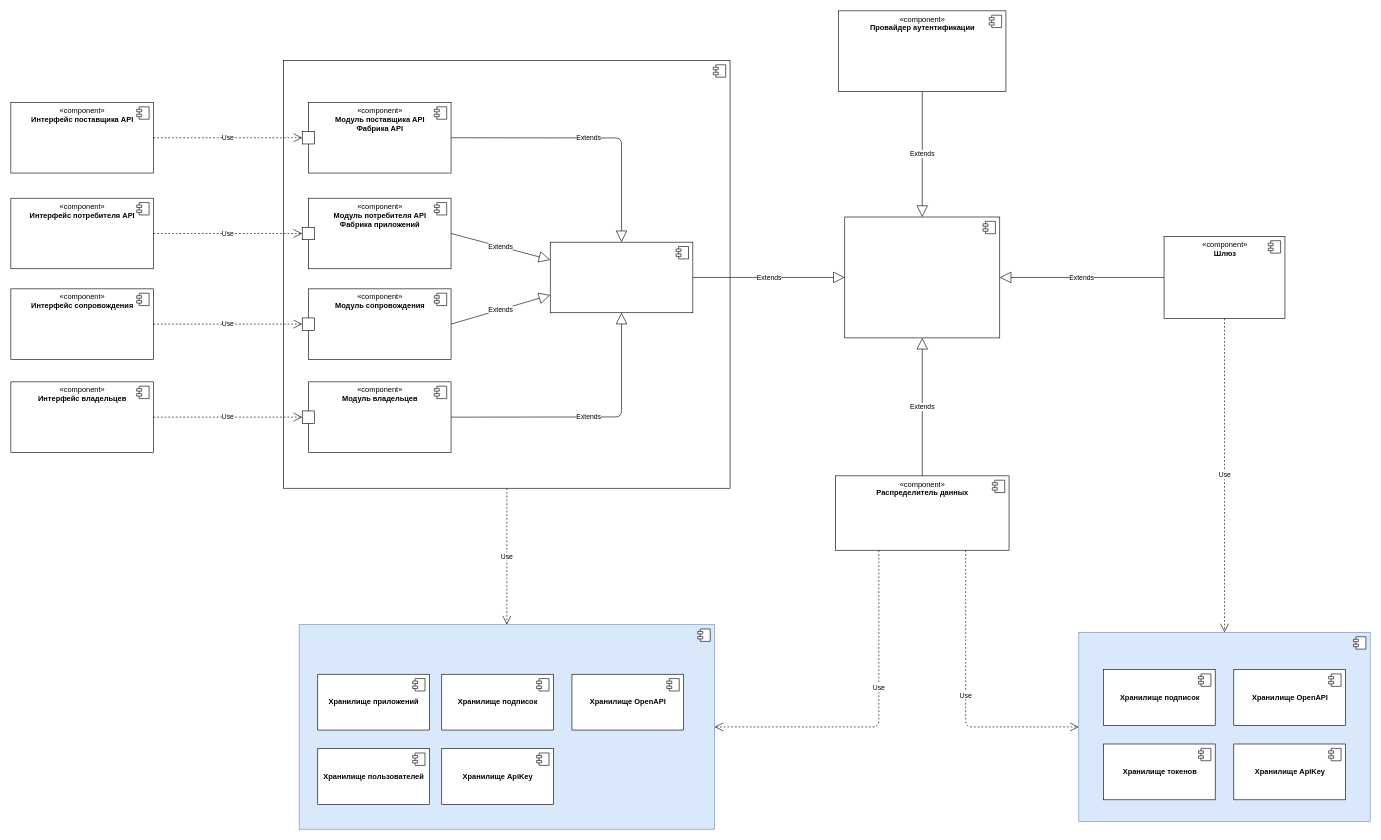
Image size: 1381x840. Some labels were removed from this diagram. The box of each missing label's shape, as (x1, y1, x2, y2) in pixels:
«component» Ядро системы: (844, 216, 1000, 338)
«component» Ядро управления API: (550, 242, 693, 313)
«subsystem» API Management: (283, 60, 730, 488)
«subsystem» Персистентное хранилище: (299, 624, 715, 829)
«subsystem» Распределнных кэш: (1078, 632, 1370, 822)
